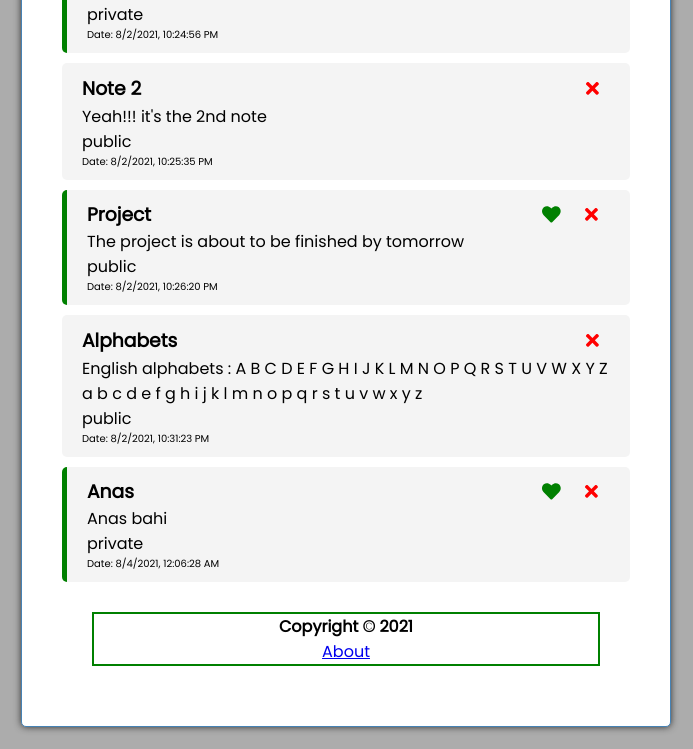
Notes Application › Visit routes
(page scrolled)
Click the link "About". click: (346, 652)
box: 322,640 -> 370,663
(page scrolled)
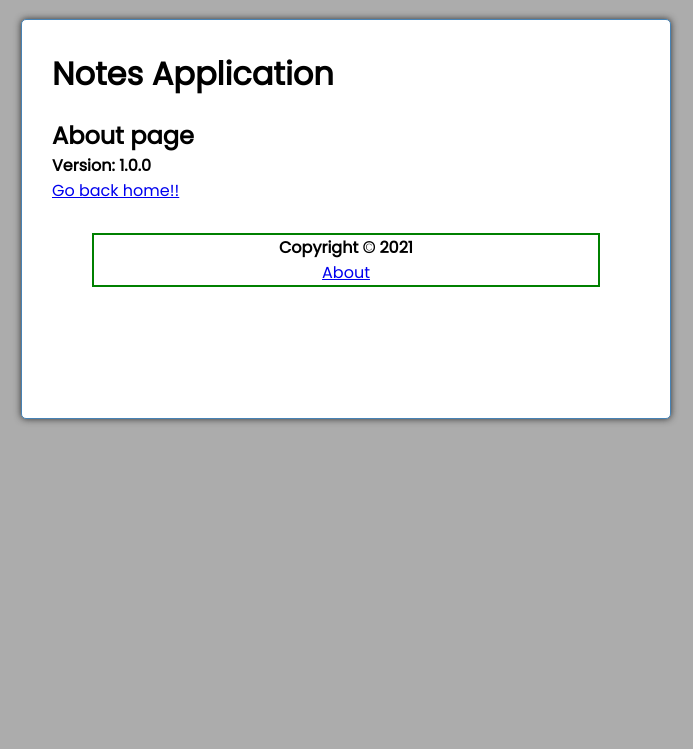
Expected: the number of headings "About page" is 1, 52,119 -> 194,152
Expected: the number of headings "Version: 1.0.0" is 1, 52,154 -> 151,177
